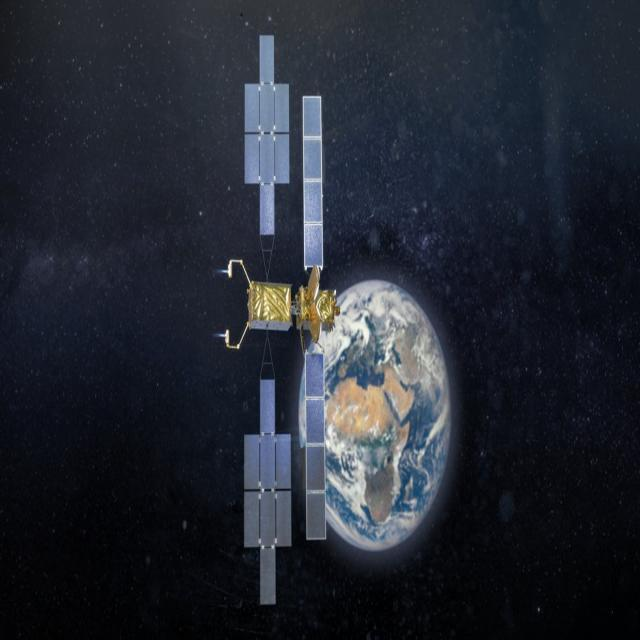sat: (226, 0, 348, 635)
